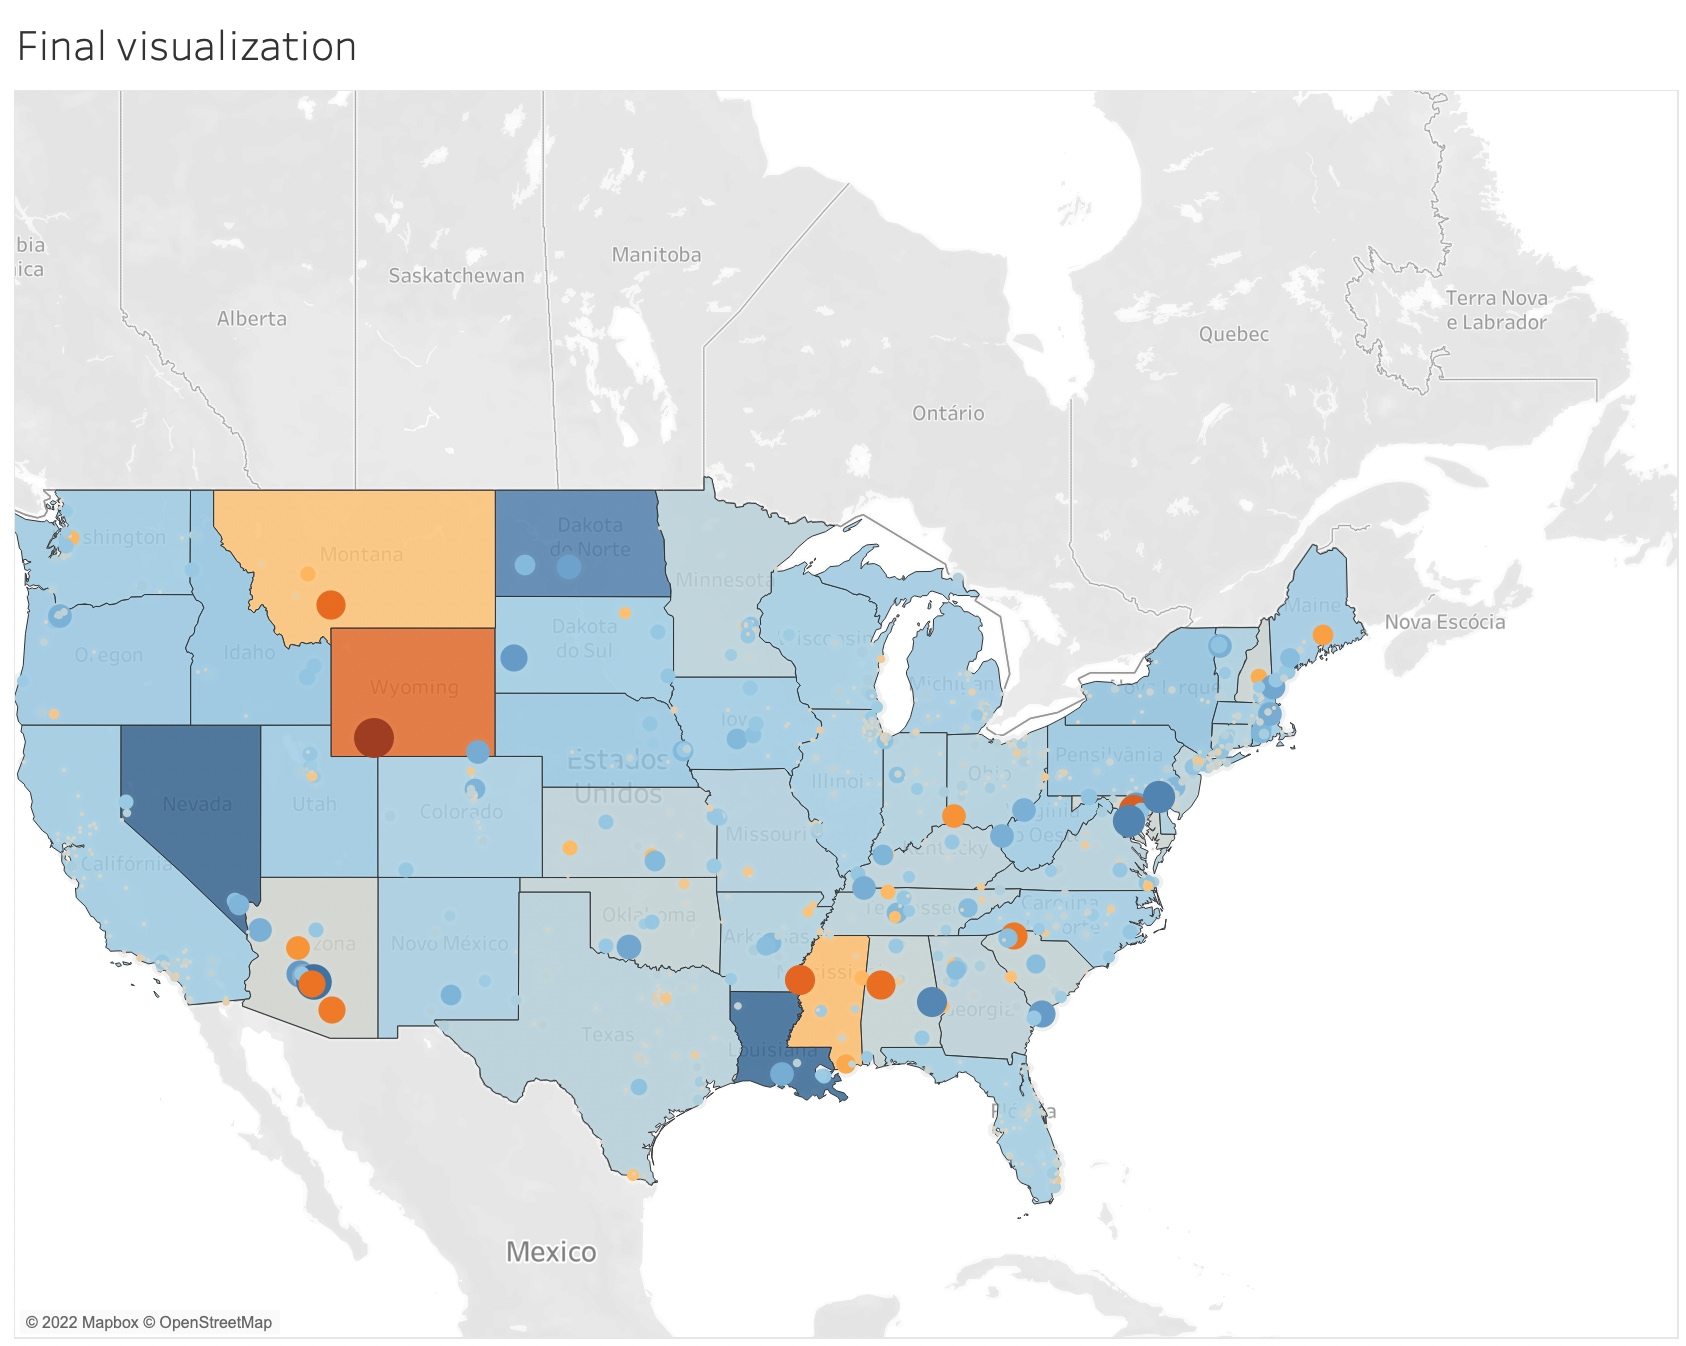

The page's visual inventory and layout, read from the dashboard file:
{"tool":"tableau","page":{"name":"Painel 4","canvas":[1000,800],"ordinal":3},"visuals":[{"type":"worksheet","title":"Final visualization","mark":"Automatic","box":[8,8,984,784]}]}

Visuals, with their boxes in screenshot pixels (x1, y1, x2, y2), scaled from the page's 1000x800 canvas onto the 1686x1346 screenshot:
"Final visualization" worksheet: [left=13, top=13, right=1673, bottom=1333]
